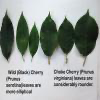Cherry leaf: (74, 6, 99, 59), (39, 9, 58, 69), (0, 9, 14, 66), (58, 10, 74, 54)
